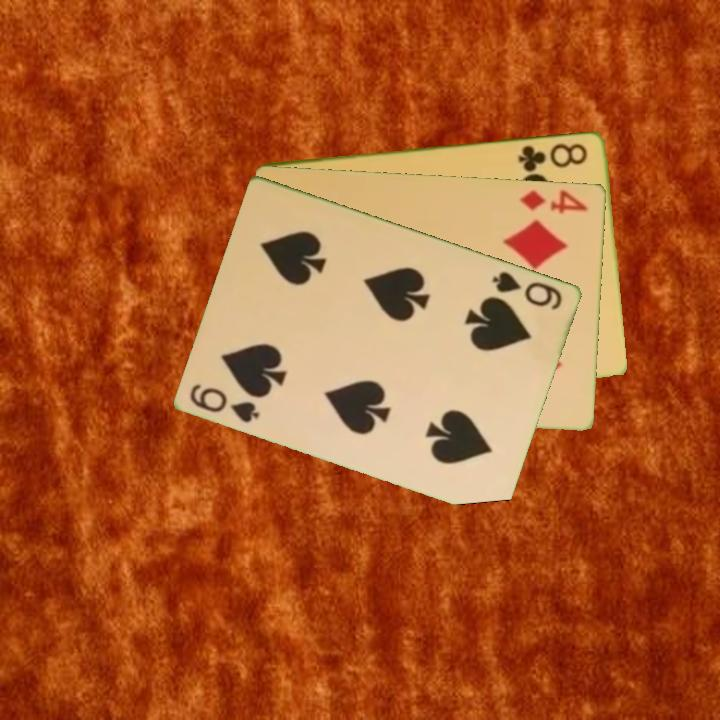4d: (517, 186, 591, 217)
6s: (489, 267, 566, 313), (187, 380, 263, 426)
8c: (515, 139, 591, 174)
